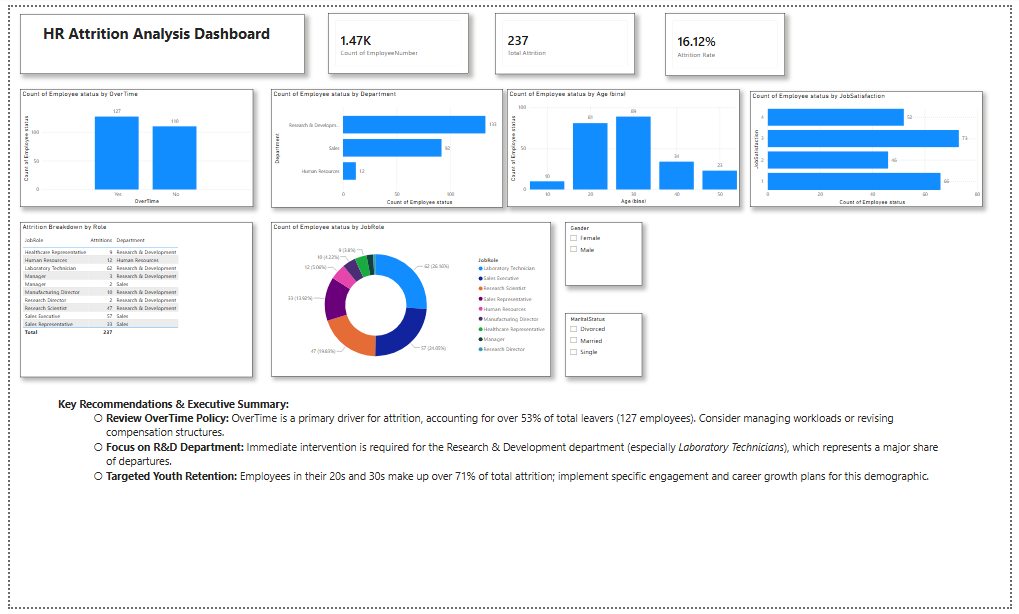

What the dashboard file says about the page in this screenshot:
{"tool":"powerbi","page":{"name":"Page 1","canvas":[1500,1500],"ordinal":0},"visuals":[{"type":"cardVisual","fields":{"Data":["CountNonNull(HR-Employee-Attrition.Employee status)"]},"box":[924,18,183.1,152.8],"z":0},{"type":"clusteredBarChart","fields":{"Category":["dim_job.Department"],"Y":["CountNonNull(HR-Employee-Attrition.Employee status)"]},"box":[28.2,405.9,580.1,295.5],"z":1000},{"type":"clusteredColumnChart","fields":{"Category":["dim_job.OverTime"],"Y":["CountNonNull(HR-Employee-Attrition.Employee status)"]},"box":[25.8,104.2,582.5,272.2],"z":2000},{"type":"slicer","fields":{"Values":["dim_employee.Gender"]},"box":[679.6,985.2,193.2,159.5],"z":3000},{"type":"textbox","box":[24.5,17.2,583.7,77.3],"z":4000},{"type":"cardVisual","fields":{"Data":["CountNonNull(dim_job.EmployeeNumber)"]},"box":[630,18,264,152.8],"z":5000},{"type":"slicer","fields":{"Values":["dim_employee.MaritalStatus"]},"box":[961.1,985.2,192.6,159.3],"z":6000},{"type":"donutChart","fields":{"Category":["dim_job.JobRole"],"Y":["CountNonNull(HR-Employee-Attrition.Employee status)"]},"box":[624.2,567.8,700.2,386.3],"z":7000},{"type":"clusteredColumnChart","fields":{"Y":["CountNonNull(HR-Employee-Attrition.Employee status)"],"Category":["dim_employee.Age (bins)"]},"box":[28.2,716.2,580.1,253.9],"z":8000},{"type":"barChart","fields":{"Category":["HR-Employee-Attrition.JobSatisfaction"],"Y":["CountNonNull(HR-Employee-Attrition.Employee status)"]},"box":[28.2,986,580.1,262.4],"z":9000},{"type":"tableEx","title":"Attrition Breakdown by Role","fields":{"Values":["dim_job.JobRole","HR-Employee-Attrition.Employee status","dim_job.Department"]},"box":[624.2,212.2,700.2,342.1],"z":10000},{"type":"cardVisual","fields":{"Data":["dim_employee.Attrition Rate"]},"box":[1128.2,13.5,196.2,158.2],"z":11000},{"type":"textbox","box":[25.7,1279.7,1356.8,190.5],"z":12000}]}

Visuals, with their boxes on the page's 1500x1500 design canvas (x1, y1, x2, y2). These are canvas units, not pixel positions in the 1019x614 screenshot, which may show the page scaled, cropped or inside an application window:
cardVisual - CountNonNull(HR-Employee-Attrition.Employee status): 924:18:1107:171
clusteredBarChart - dim_job.Department x CountNonNull(HR-Employee-Attrition.Employee status): 28:406:608:701
clusteredColumnChart - dim_job.OverTime x CountNonNull(HR-Employee-Attrition.Employee status): 26:104:608:376
slicer - dim_employee.Gender: 680:985:873:1145
textbox: 24:17:608:94
cardVisual - CountNonNull(dim_job.EmployeeNumber): 630:18:894:171
slicer - dim_employee.MaritalStatus: 961:985:1154:1144
donutChart - dim_job.JobRole x CountNonNull(HR-Employee-Attrition.Employee status): 624:568:1324:954
clusteredColumnChart - CountNonNull(HR-Employee-Attrition.Employee status) x dim_employee.Age (bins): 28:716:608:970
barChart - HR-Employee-Attrition.JobSatisfaction x CountNonNull(HR-Employee-Attrition.Employee status): 28:986:608:1248
"Attrition Breakdown by Role" tableEx: 624:212:1324:554
cardVisual - dim_employee.Attrition Rate: 1128:14:1324:172
textbox: 26:1280:1382:1470
